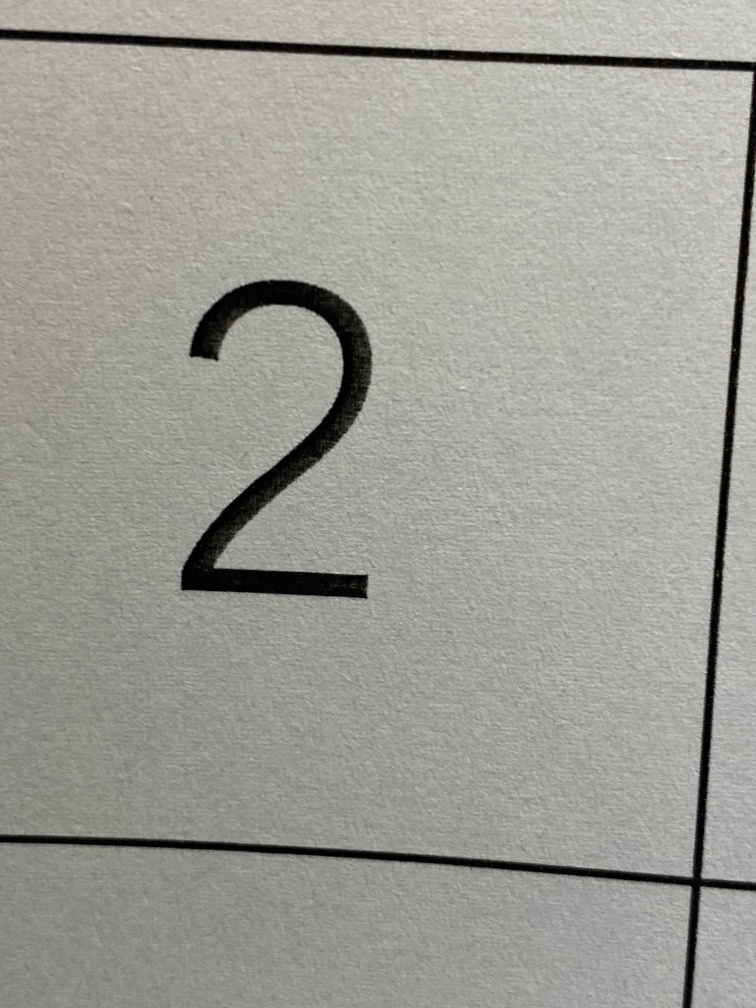two: (121, 226, 456, 682)
